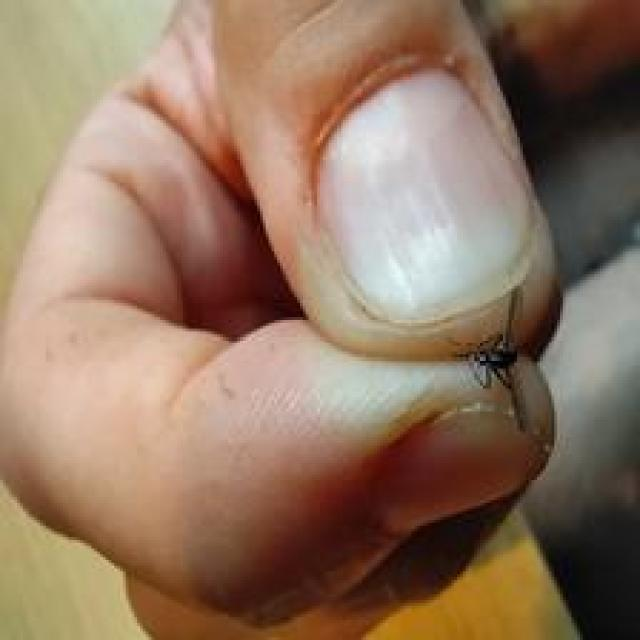Aedes albopictus: (452, 283, 532, 434)
